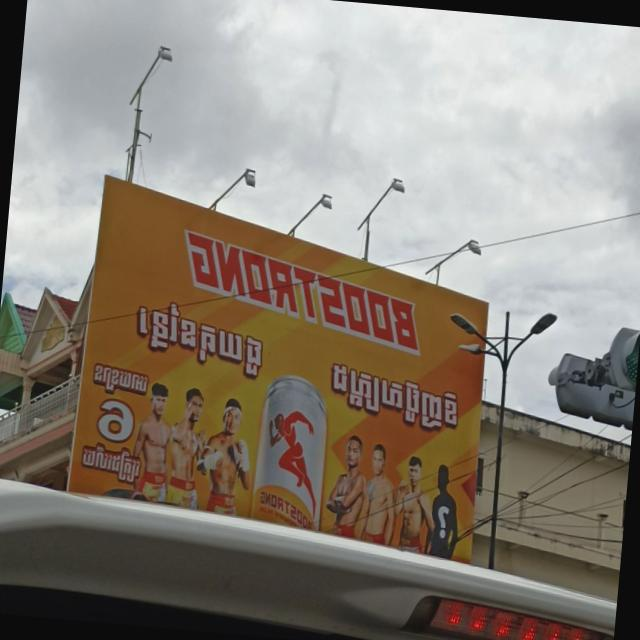797: (91, 394, 138, 451)
Yolov11_80vkh: (132, 286, 270, 387), (328, 353, 463, 438), (78, 432, 148, 489), (87, 357, 153, 403)
